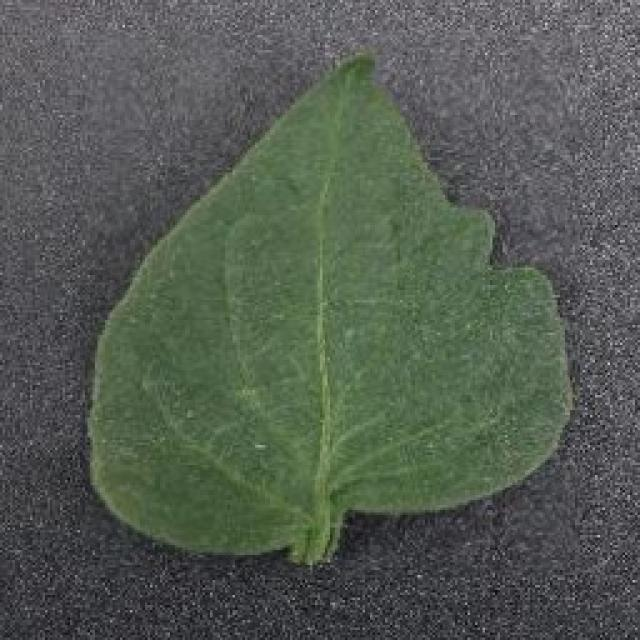Healthy: (80, 30, 580, 578)
